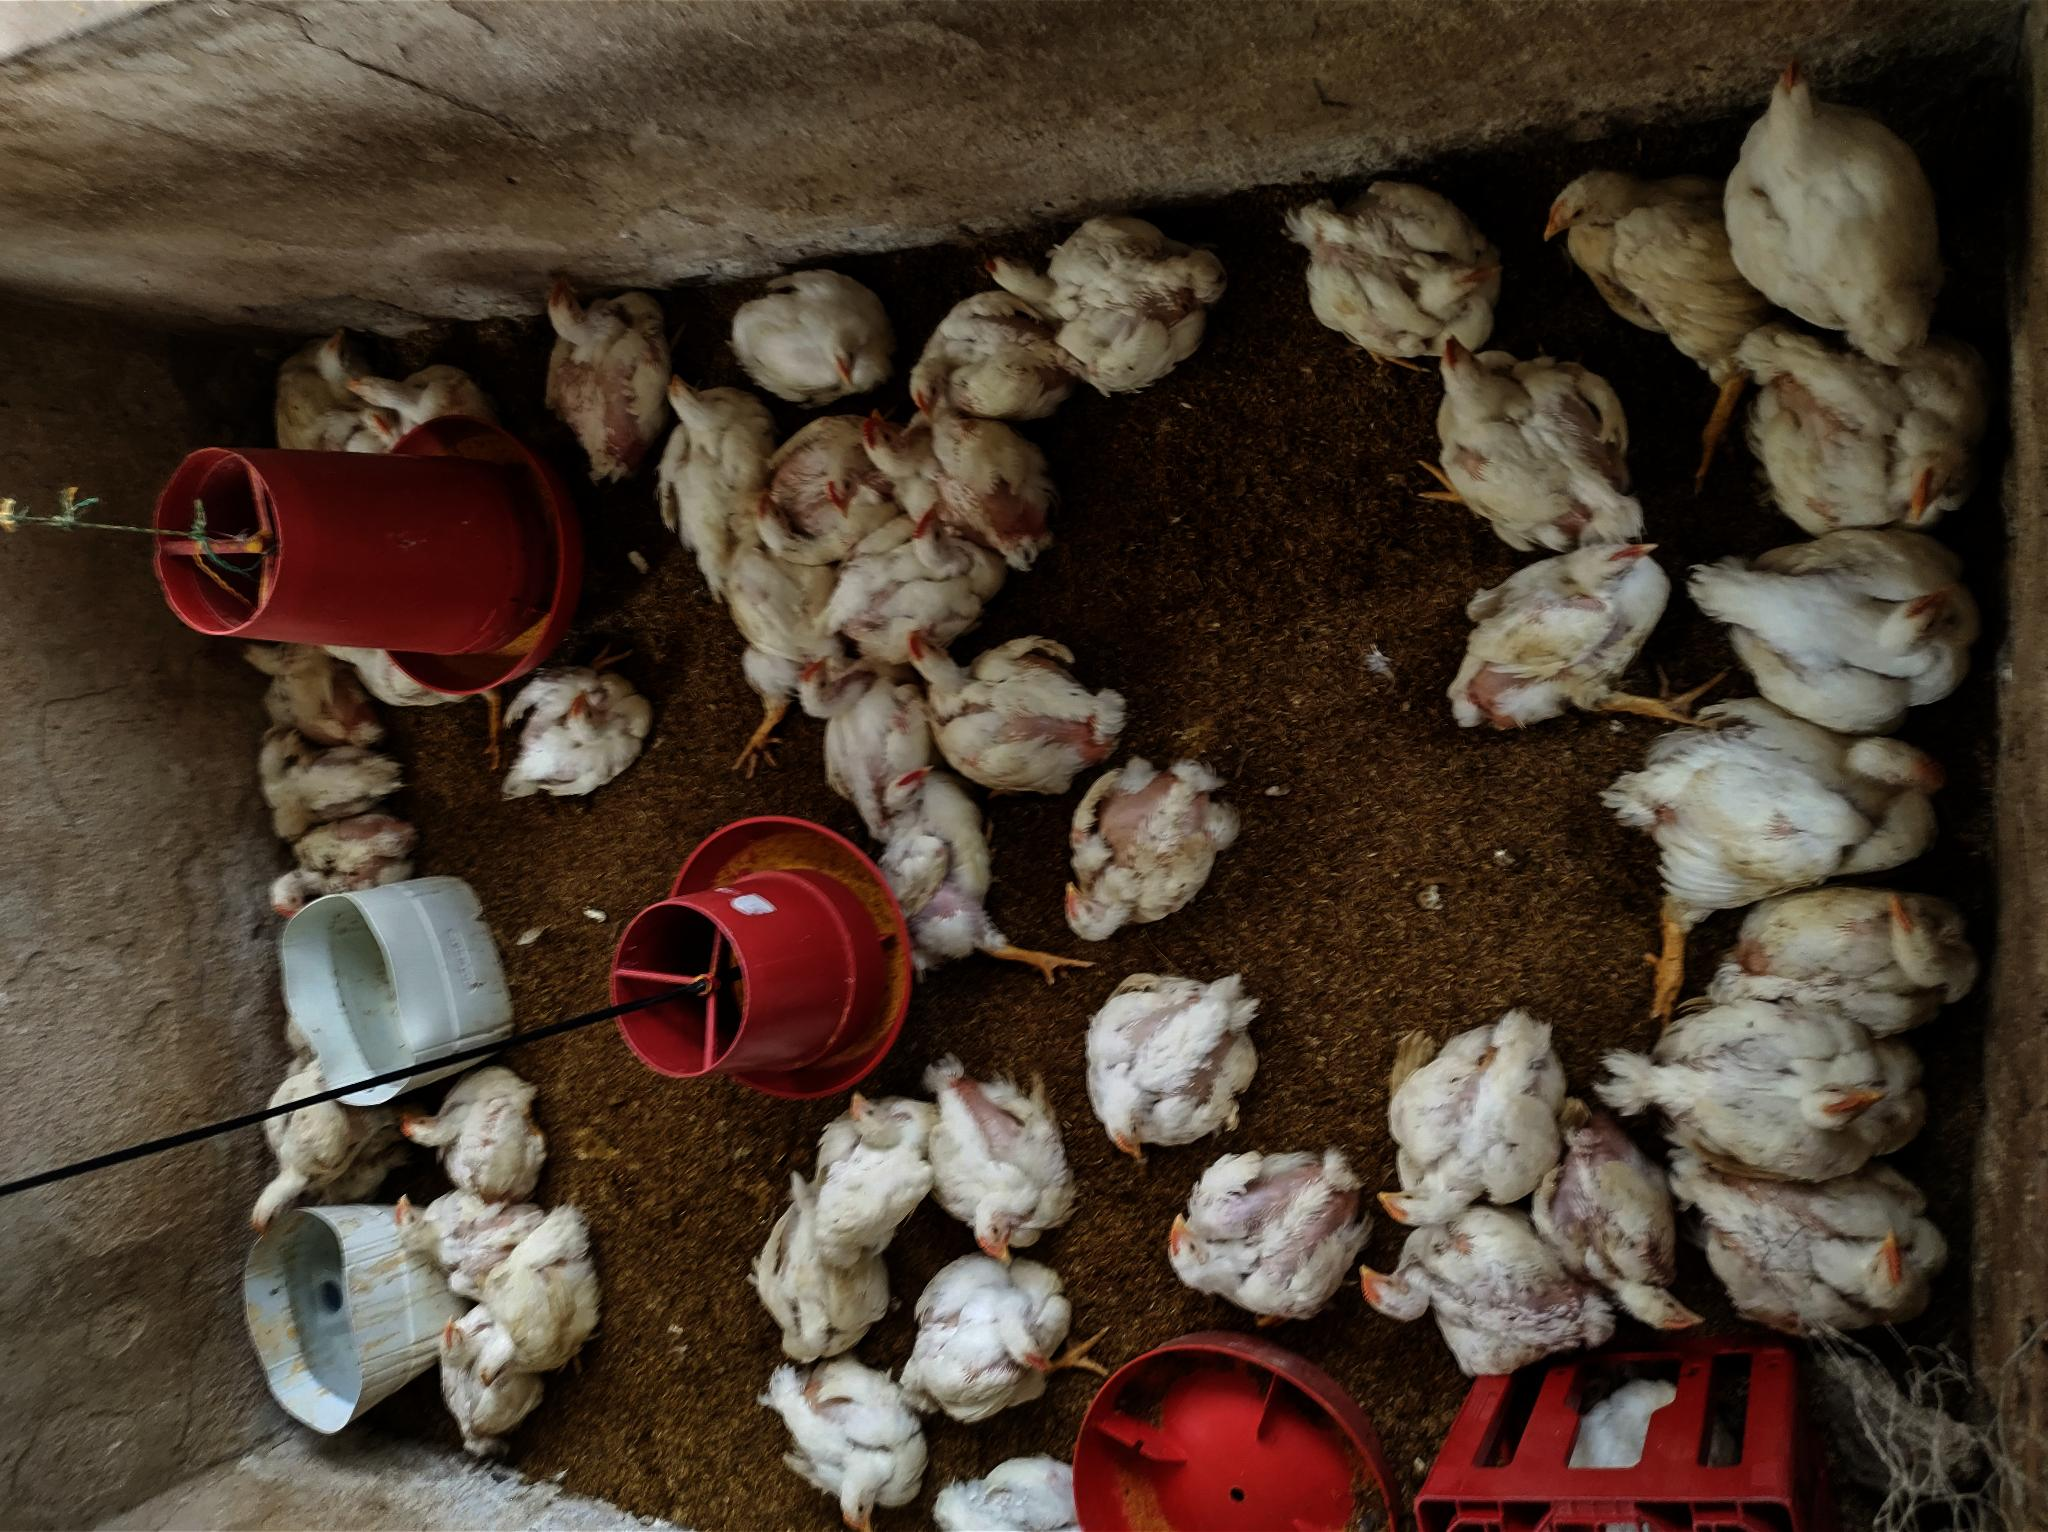Pollos: (1589, 698, 1947, 909), (1718, 51, 1948, 370), (1683, 523, 1977, 729), (1647, 991, 1947, 1173), (1540, 153, 1765, 381), (1738, 327, 1984, 533), (1421, 327, 1651, 544), (1443, 525, 1676, 732), (1689, 1147, 1951, 1328), (1364, 1011, 1581, 1226), (983, 212, 1226, 393), (1351, 1213, 1606, 1379), (1527, 1098, 1705, 1332), (1287, 171, 1506, 356), (894, 624, 1121, 795), (1078, 969, 1269, 1170), (915, 1052, 1088, 1275), (1162, 1146, 1364, 1320), (1728, 877, 1971, 1017), (766, 1340, 941, 1532), (1060, 747, 1228, 941), (853, 401, 1047, 568), (716, 492, 833, 753), (907, 1249, 1076, 1423), (743, 1176, 899, 1363), (533, 275, 674, 480), (788, 645, 933, 827), (803, 1085, 946, 1266), (709, 267, 890, 406), (820, 496, 989, 642), (877, 763, 1001, 962), (734, 422, 919, 554), (241, 1060, 372, 1246), (476, 1204, 594, 1405), (904, 286, 1068, 423), (492, 665, 652, 805), (655, 369, 761, 573), (393, 1048, 537, 1196), (380, 1176, 534, 1294), (245, 636, 397, 743), (256, 723, 407, 830), (434, 1300, 537, 1456), (265, 814, 412, 924), (278, 341, 402, 452), (319, 632, 442, 723), (348, 364, 470, 430)
